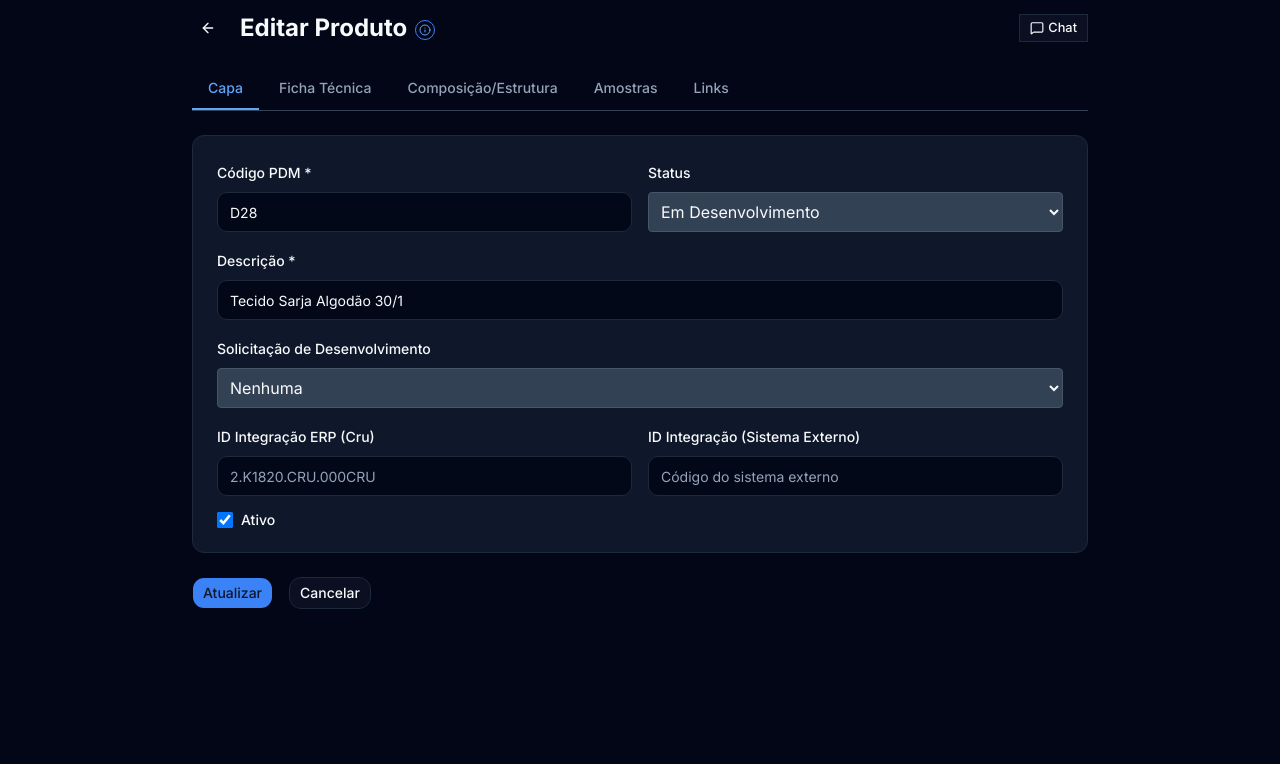
Test: ProdutoCruFormPage › adiciona amostra de acabamento sem disparar submit do form
The image size is (1280, 764).
Expected: the field showing "D28" is shown, [217,192,632,232]
Click the button "Amostras" at (626, 89), box [578,68,674,110]
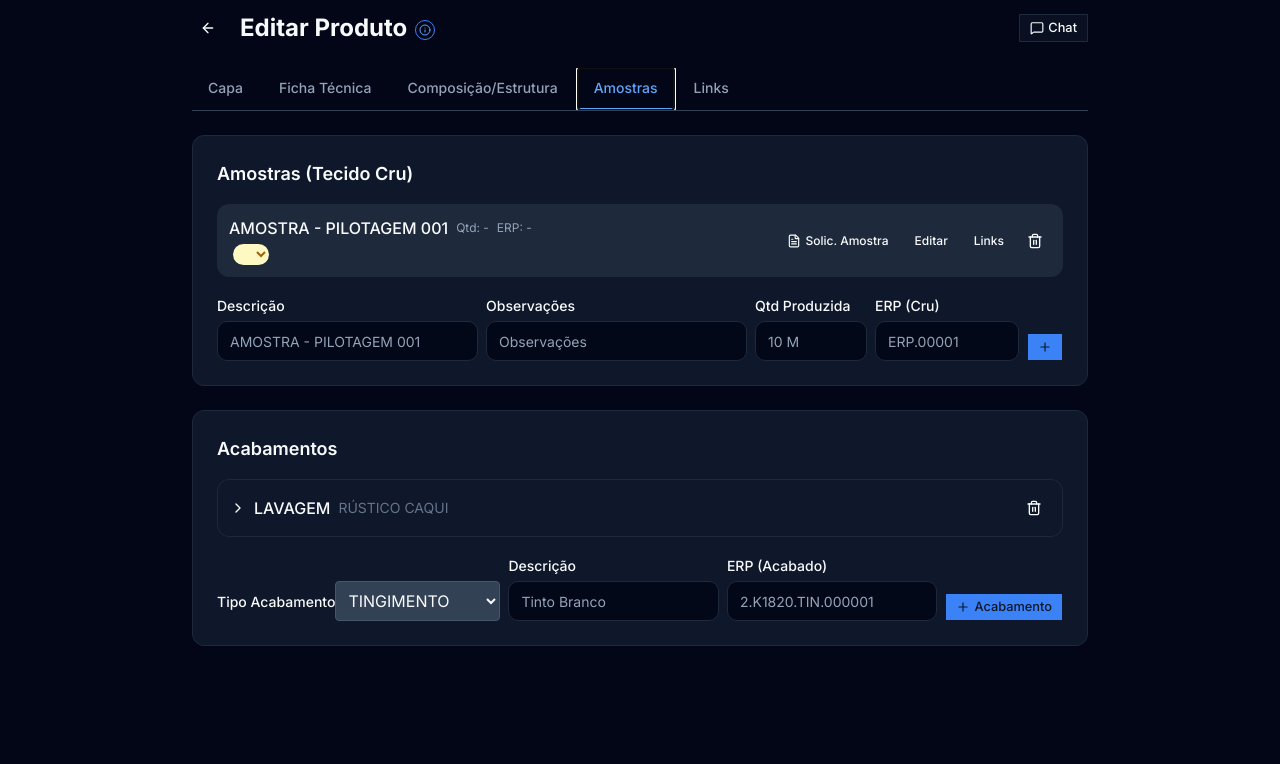
Now the text "RÚSTICO CAQUI" is shown
Click the text "RÚSTICO CAQUI" at (393, 508), box [338,498,448,518]
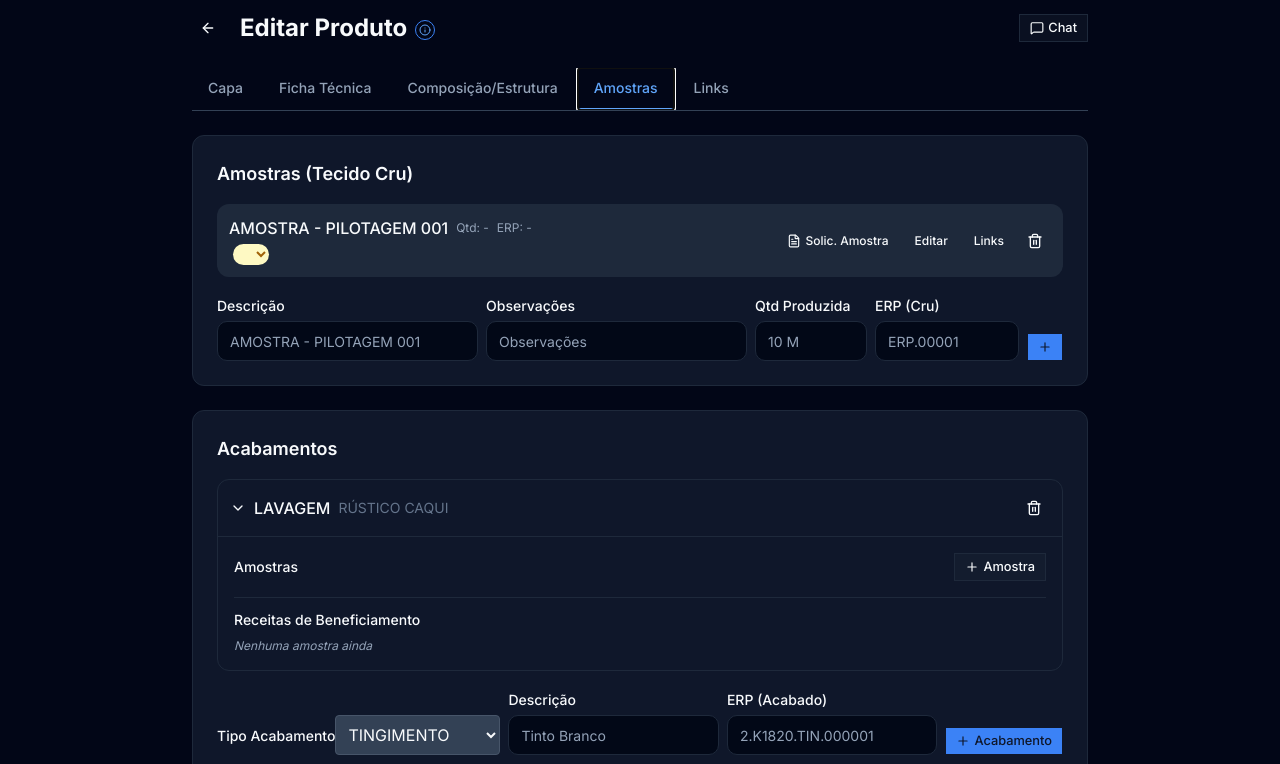
Click the button "Amostra" at (1000, 567), box [954,553,1046,581]
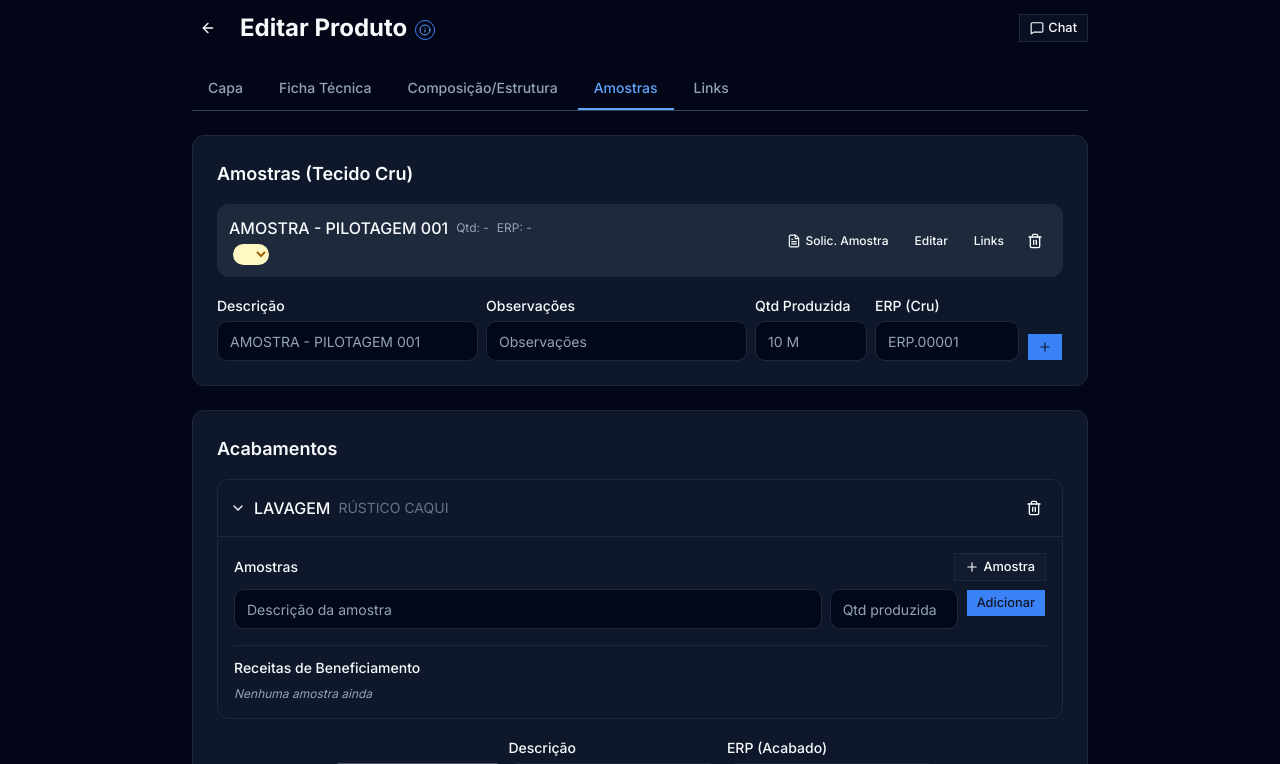
Type "AMOSTRA BENEF 001" into the field with placeholder "Descrição da amostra" at (528, 609), box [234,589,822,629]
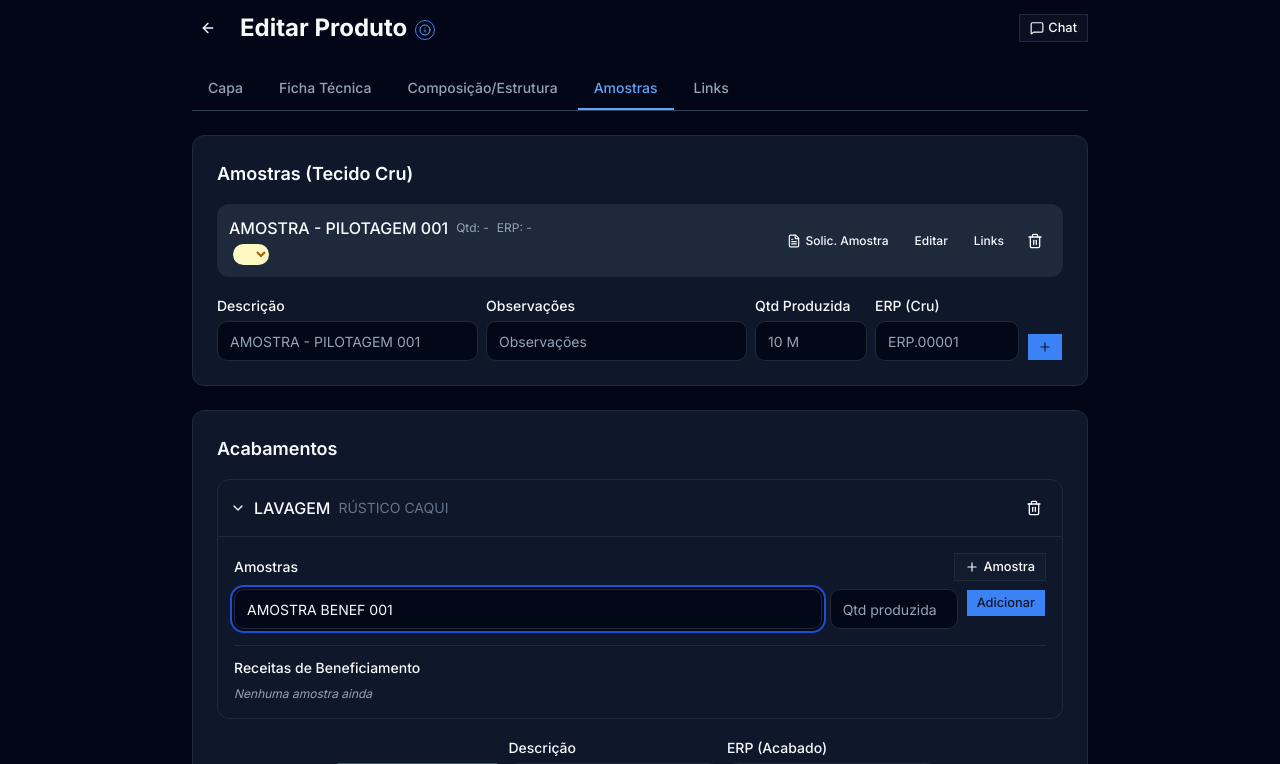
Type "10 M" into the field with placeholder "Qtd produzida" at (894, 609), box [830,589,958,629]
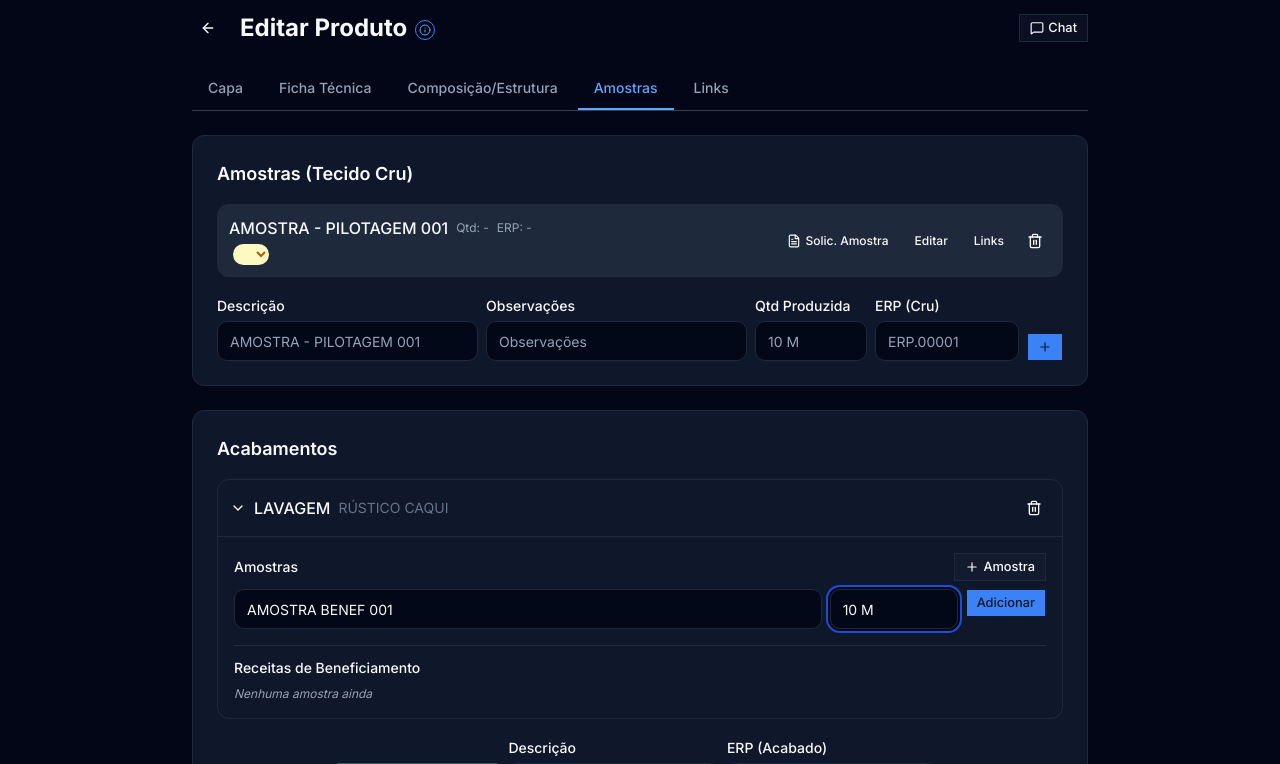
Click the button "Adicionar" at (1006, 603), box [966,589,1046,617]
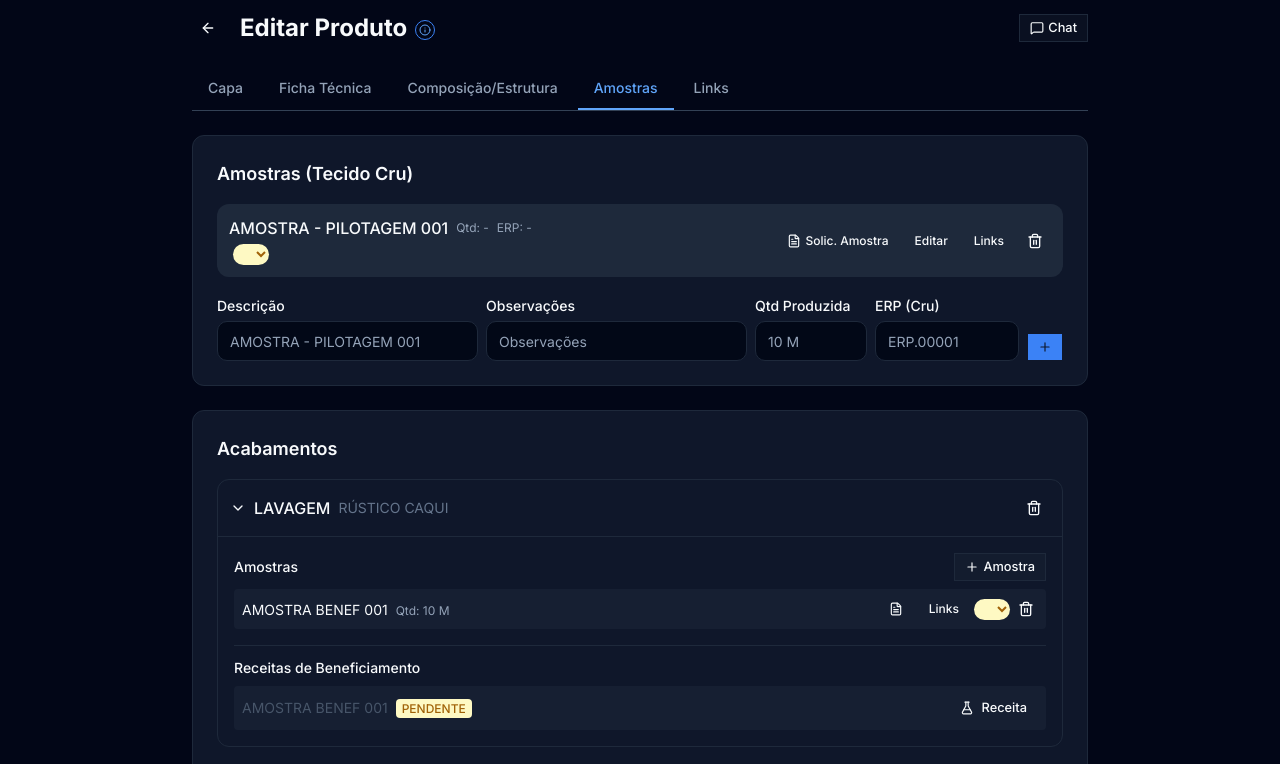
Now the text "AMOSTRA BENEF 001" is shown, box [242,601,388,618]
